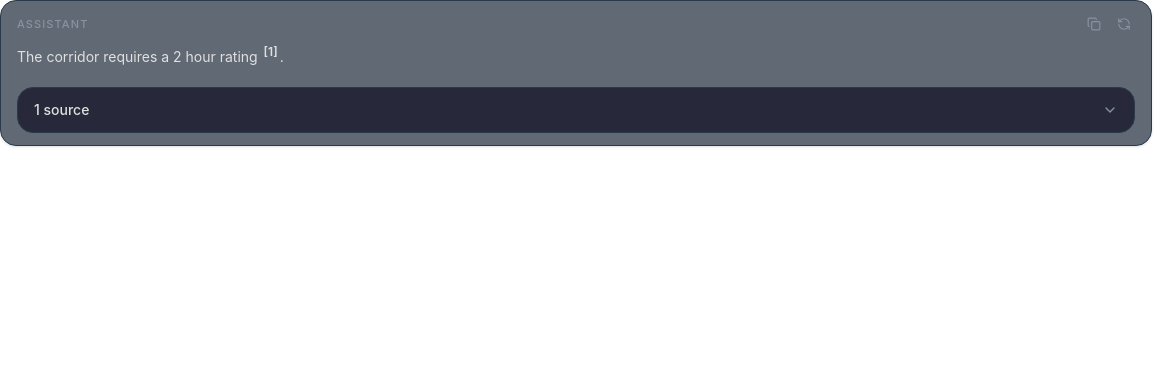
Test: MessageBubble › renders citation markers and opens the citation panel for grounded assistant messages
This screenshot has width=1169, height=383.
Click the button "[1]".
click(271, 52)  # box [264,44,278,60]
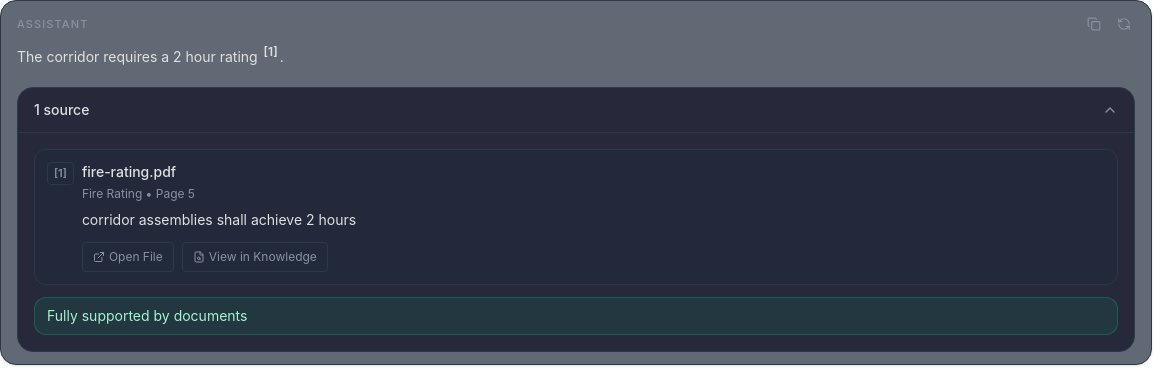
Expected: the text "Fully supported by documents" is shown, [34,297,1118,335]
Expected: the text "fire-rating.pdf" is shown, [82,163,176,180]
